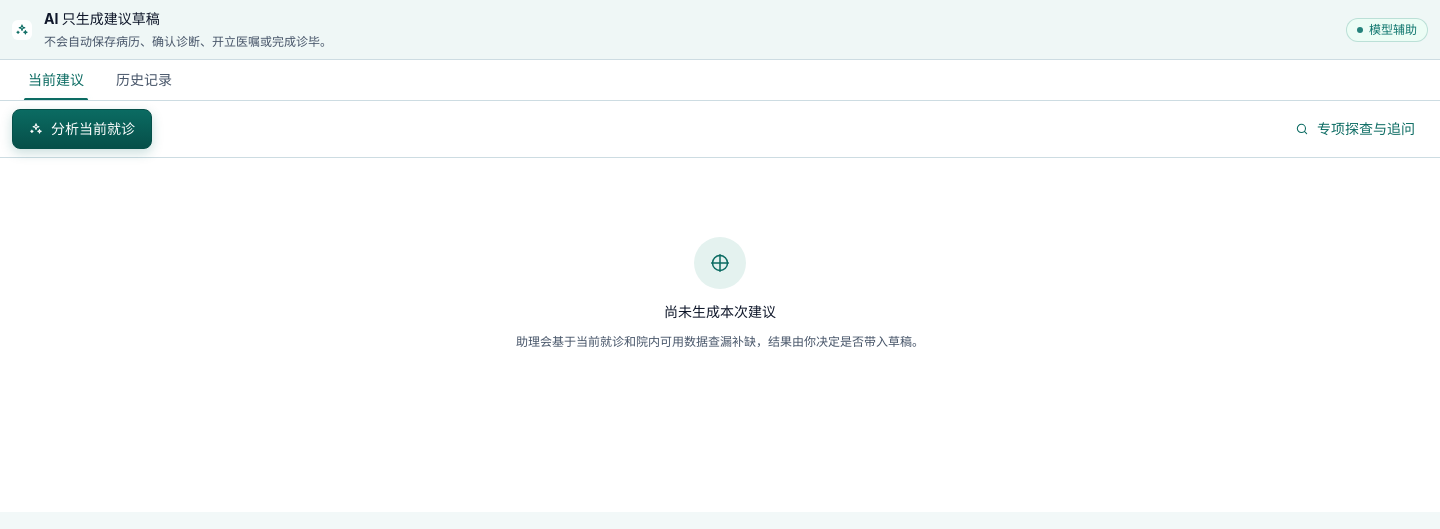
Test: ClinicalAiAssistantPanel suggestion history › shows an empty state when the encounter has no prior suggestions
Click the tab "历史记录" at (144, 80), box left=100, top=60, right=188, bottom=100
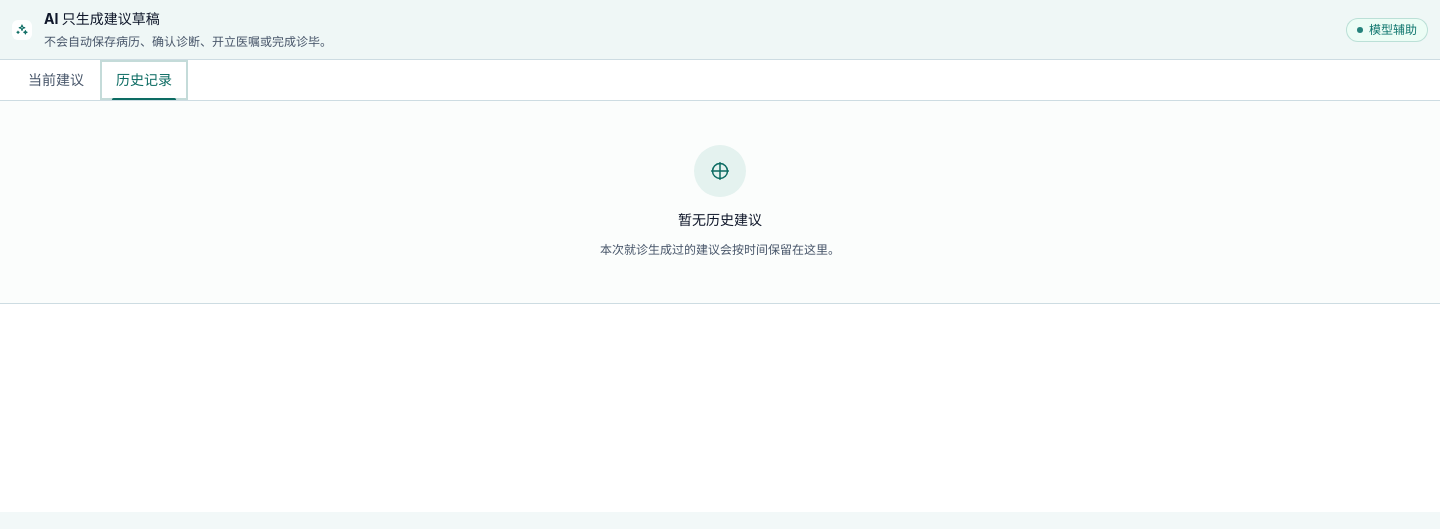
Expected: the text "暂无历史建议" is shown, left=678, top=209, right=762, bottom=232
Expected: the text "尚未生成本次建议" is gone
